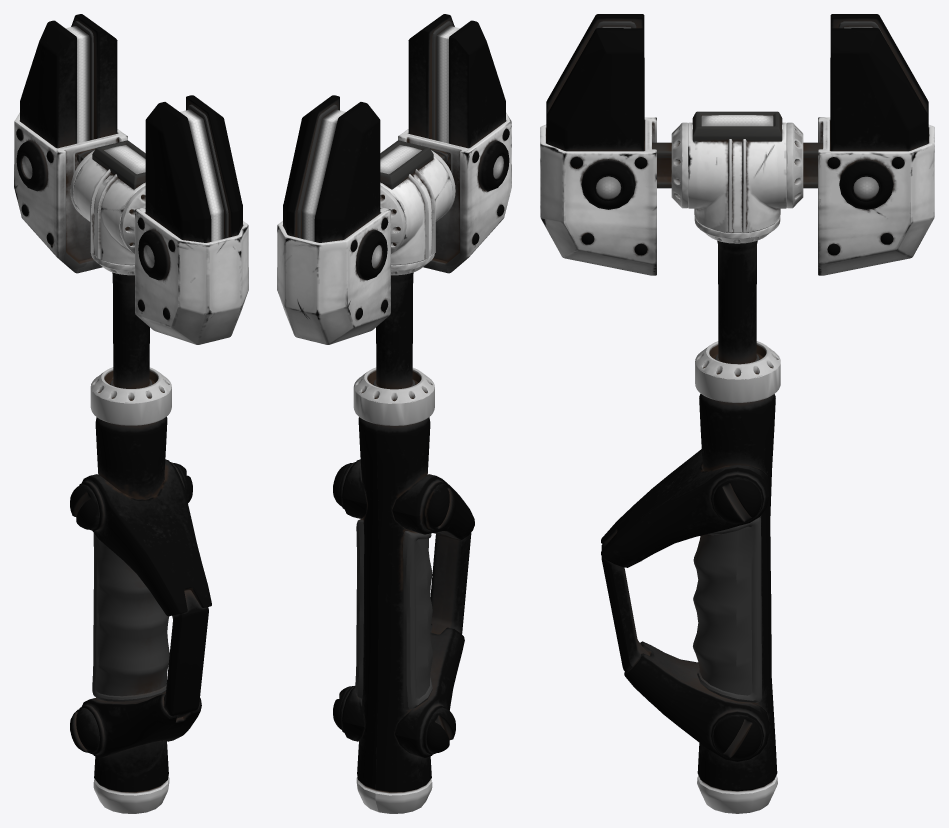
Rendered from wpn_wrench.obj.
3 renders of one model, left to right at view 1: azimuth 30°, elevation 25°; view 2: azimuth 150°, elevation 25°; view 3: azimuth 270°, elevation 25°, orthographic. The views are drawn at different scales.
Parts seen in each view (by area): view 1: wpn_wrench-subset0-LOD_0, wpn_wrench-subset1-LOD_0; view 2: wpn_wrench-subset0-LOD_0, wpn_wrench-subset1-LOD_0; view 3: wpn_wrench-subset0-LOD_0, wpn_wrench-subset1-LOD_0.
Part boxes in pixels (x1,y1,x2,y2): wpn_wrench-subset0-LOD_0: [14, 14, 248, 813]; wpn_wrench-subset1-LOD_0: [22, 26, 224, 267]; wpn_wrench-subset0-LOD_0: [277, 14, 511, 813]; wpn_wrench-subset1-LOD_0: [301, 26, 503, 267]; wpn_wrench-subset0-LOD_0: [540, 14, 934, 813]; wpn_wrench-subset1-LOD_0: [596, 26, 879, 198].
Size of what is drawn, in the model's own units: 0.1162 by 0.7271 by 0.334.
1 material, 1 textured.
